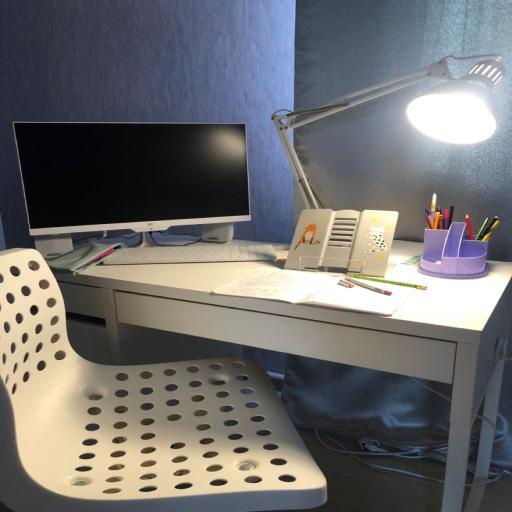bottle: (0, 248, 326, 512)
phone: (56, 233, 512, 512)
